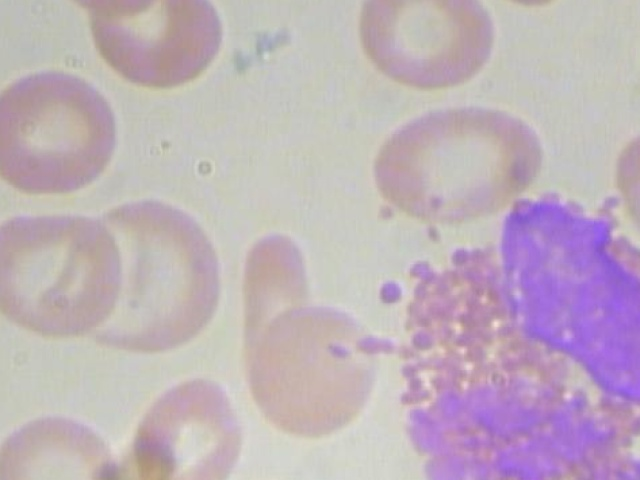RBC: (68, 189, 226, 361), (345, 103, 548, 228), (249, 300, 386, 444), (0, 64, 134, 202), (82, 0, 241, 100), (0, 212, 122, 338), (349, 0, 508, 90), (120, 366, 239, 480), (238, 210, 312, 392), (0, 407, 126, 480), (609, 122, 640, 286)
WBC: (319, 182, 640, 480)
